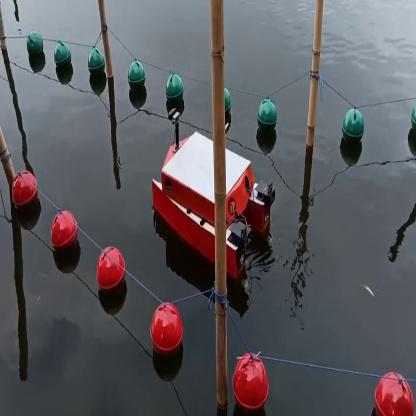green_buoy: (342, 104, 363, 146), (257, 98, 276, 134), (166, 75, 182, 107), (129, 60, 144, 90), (56, 42, 72, 68), (224, 90, 236, 122), (27, 36, 44, 58), (90, 51, 102, 76)
red_buoy: (150, 298, 190, 368), (234, 352, 273, 414), (96, 244, 126, 298), (9, 168, 40, 218), (374, 372, 408, 415), (53, 208, 77, 254)
